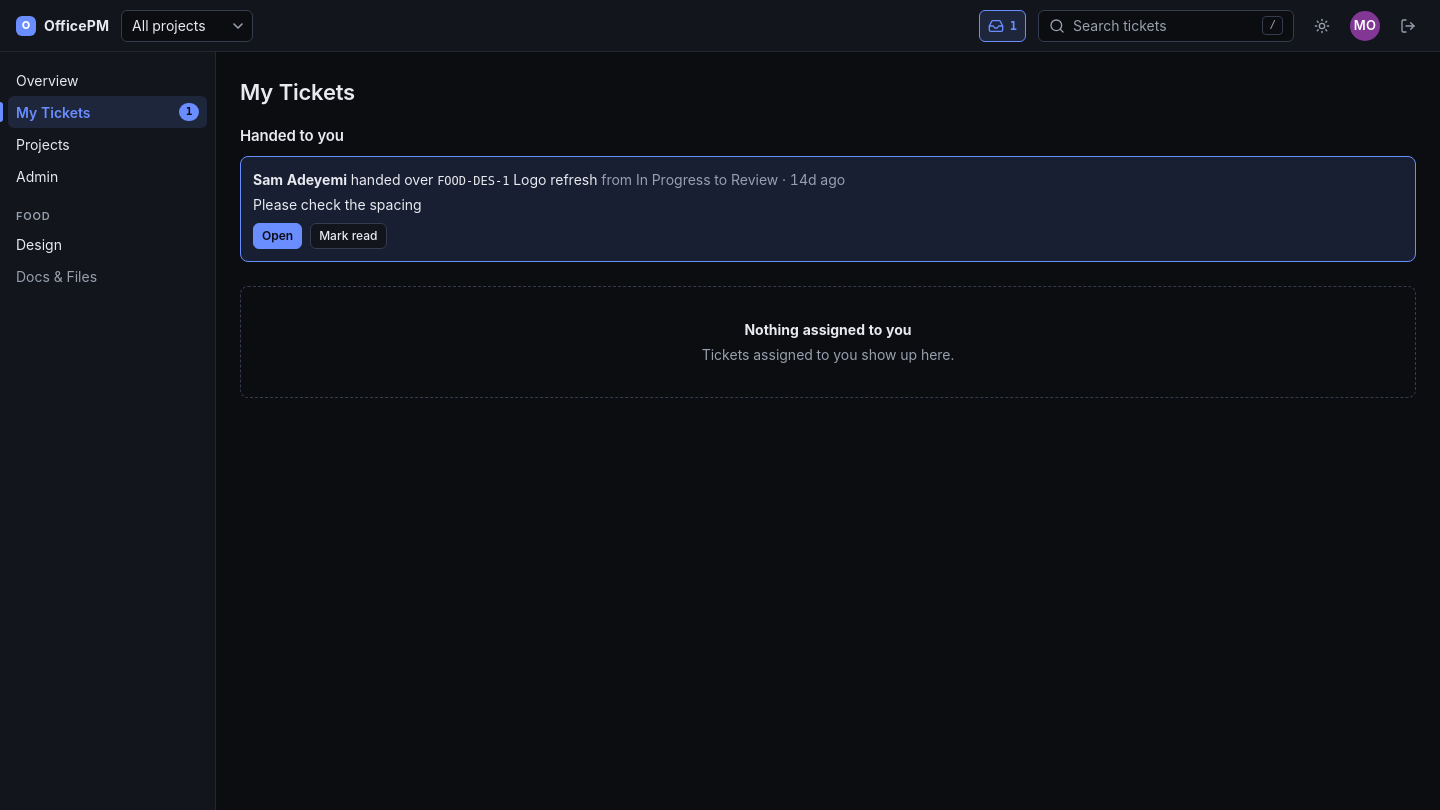
Test: handoffs addressed to me › opens the ticket in the drawer, which reads it
Click the button with aria-label "Open FOOD-DES-1".
click(278, 236)  # box [253,222,302,248]
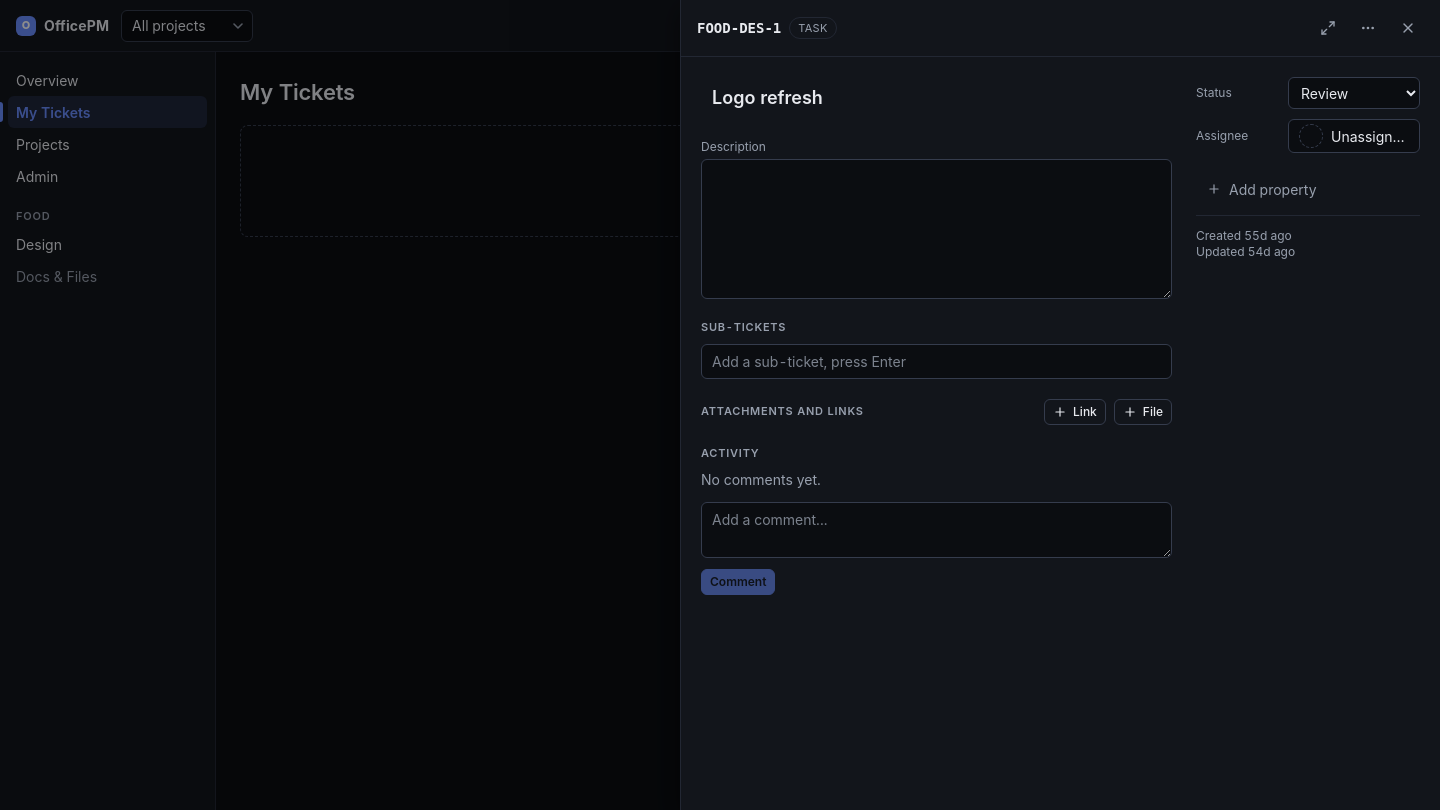
Result: the heading "Handed to you" is gone
